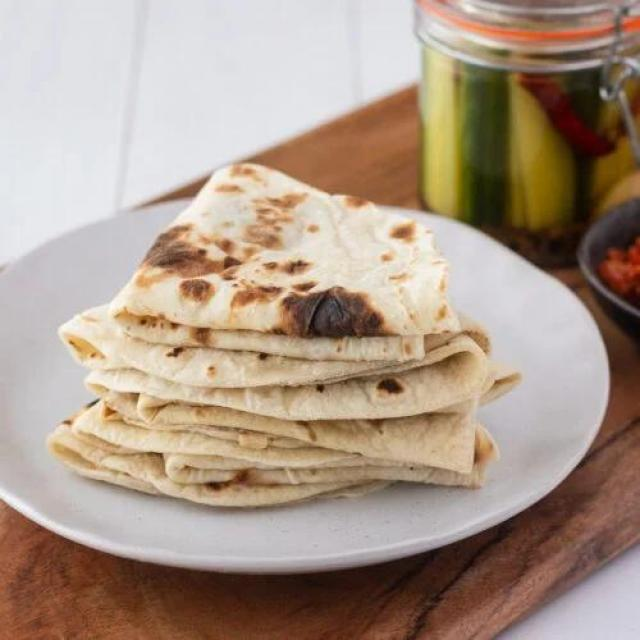roti: (48, 153, 528, 512)
